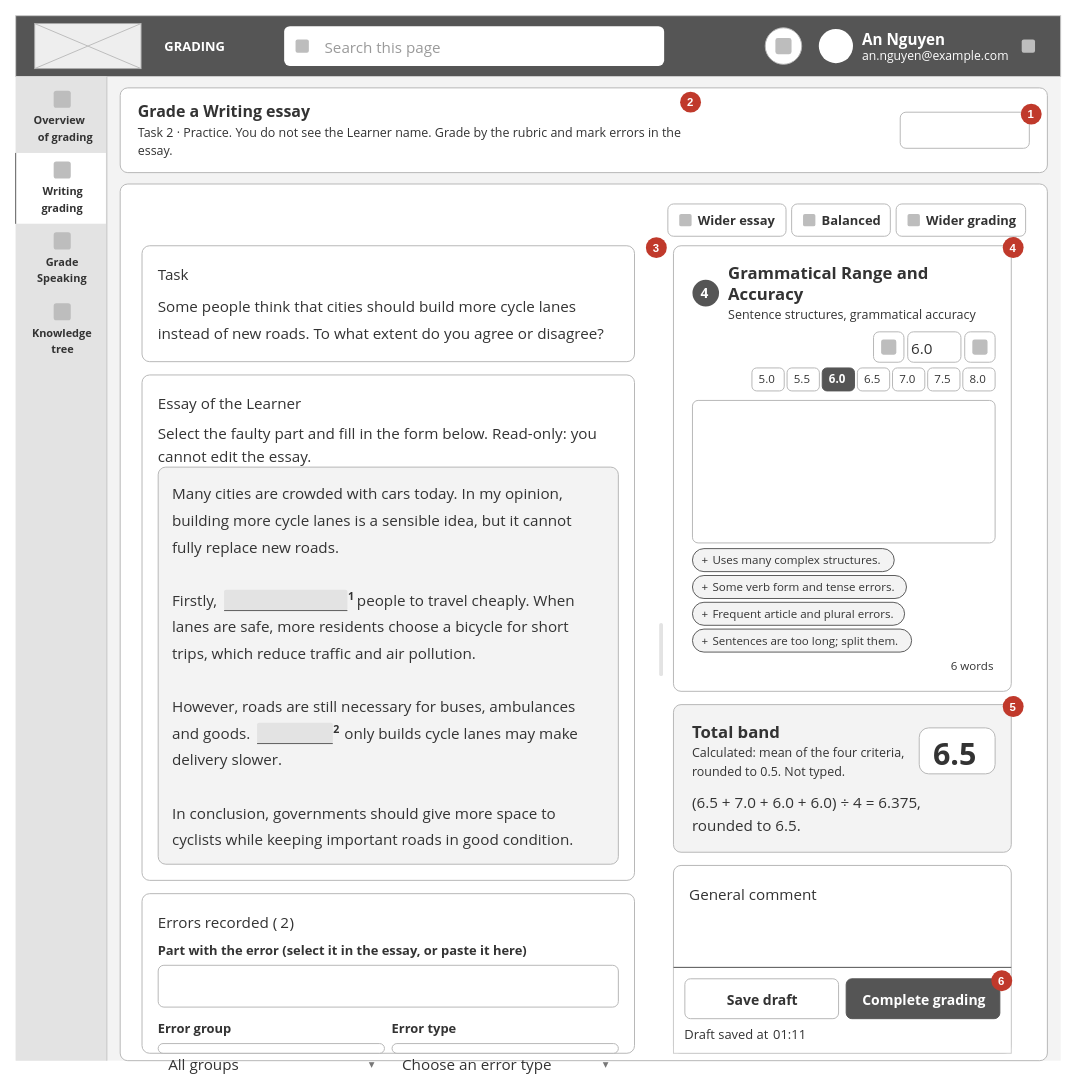
The diagram is 1076 pixels wide and 1091 high, and some of its shapes have lost their labels. Each missing label, with the centre of its shape:
"A city who" goes at point (294, 732).
"AN" goes at point (835, 45).
"Check subject-verb agreement and …" goes at point (843, 471).
"cycle lanes helps" goes at point (285, 599).
"List of essays" goes at point (964, 129).
